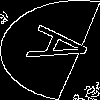A: (25, 25, 100, 70)
